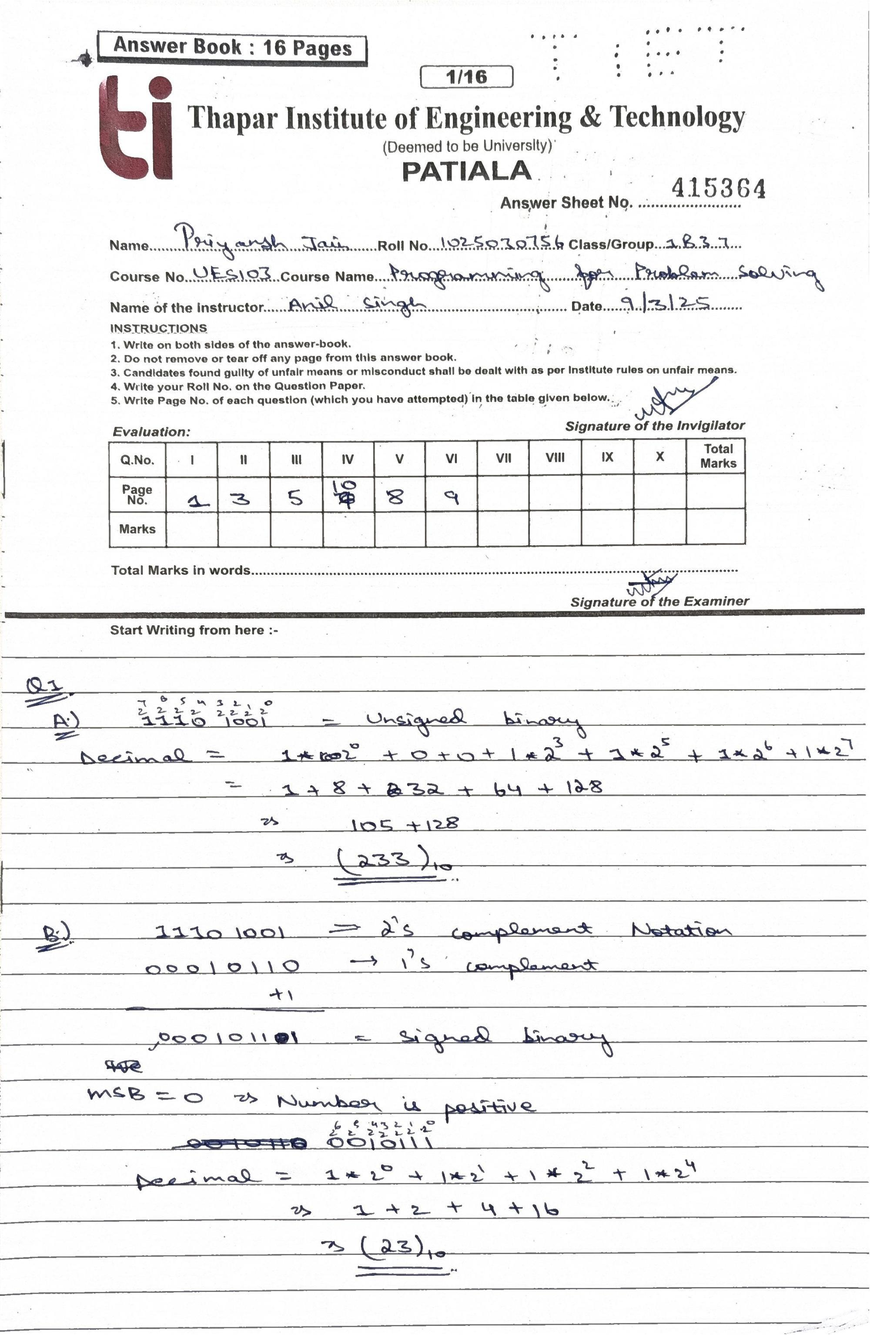cuttings: (170, 1136, 309, 1150), (103, 1057, 144, 1075), (385, 781, 405, 799), (318, 750, 342, 763), (273, 1031, 291, 1044)
